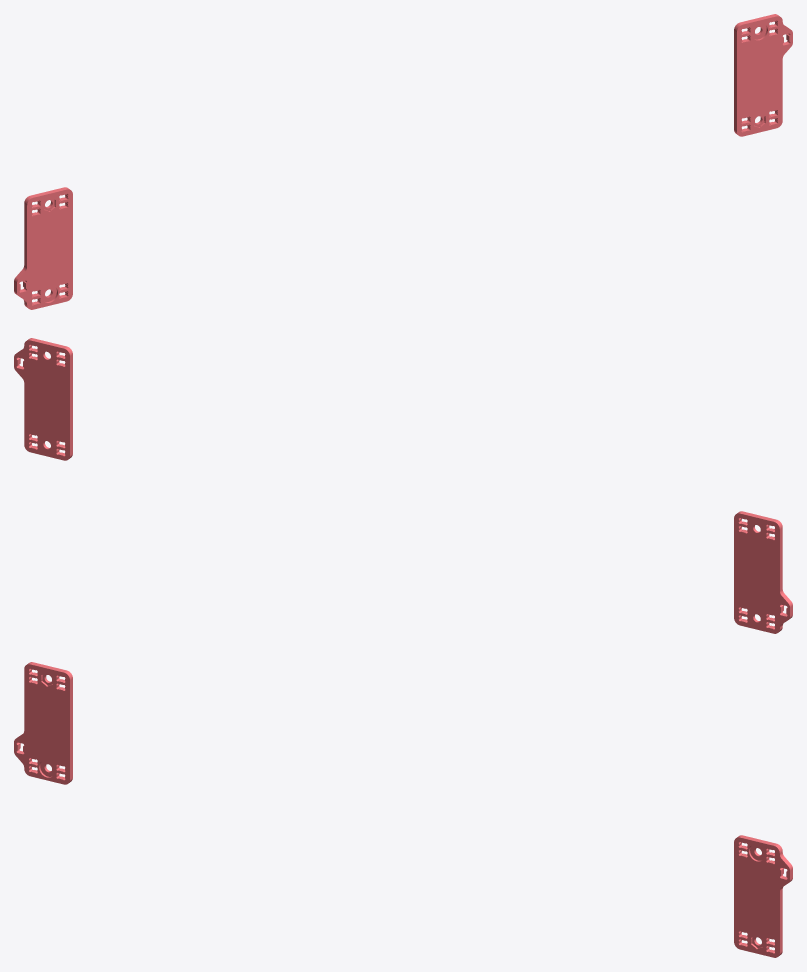
Rendered from BATTERY MODULE V2__SPINE ASM FRONT STOP__SPINE SIDE SIMPLE FRONT STOP A.glb.
The picture shows the model from 3 angles, top to bottom: view 1: azimuth 30°, elevation 25°; view 2: azimuth 150°, elevation 25°; view 3: azimuth 330°, elevation 25°; orthographic projection.
Parts seen in each view (by area): view 1: SPINE SIDE SIMPLE FRONT STOP A 1, SPINE SIDE SIMPLE FRONT STOP A 2; view 2: SPINE SIDE SIMPLE FRONT STOP A 2, SPINE SIDE SIMPLE FRONT STOP A 1; view 3: SPINE SIDE SIMPLE FRONT STOP A 2, SPINE SIDE SIMPLE FRONT STOP A 1.
Boxes of the visible parts, x1=… form: SPINE SIDE SIMPLE FRONT STOP A 1: x1=734, y1=14, x2=792, y2=136; SPINE SIDE SIMPLE FRONT STOP A 2: x1=14, y1=187, x2=72, y2=309; SPINE SIDE SIMPLE FRONT STOP A 2: x1=734, y1=511, x2=792, y2=633; SPINE SIDE SIMPLE FRONT STOP A 1: x1=14, y1=338, x2=72, y2=460; SPINE SIDE SIMPLE FRONT STOP A 2: x1=14, y1=662, x2=72, y2=784; SPINE SIDE SIMPLE FRONT STOP A 1: x1=734, y1=835, x2=792, y2=957.
Bounding box in the file's own units: 0.9672 × 0.1333 × 0.00635.
